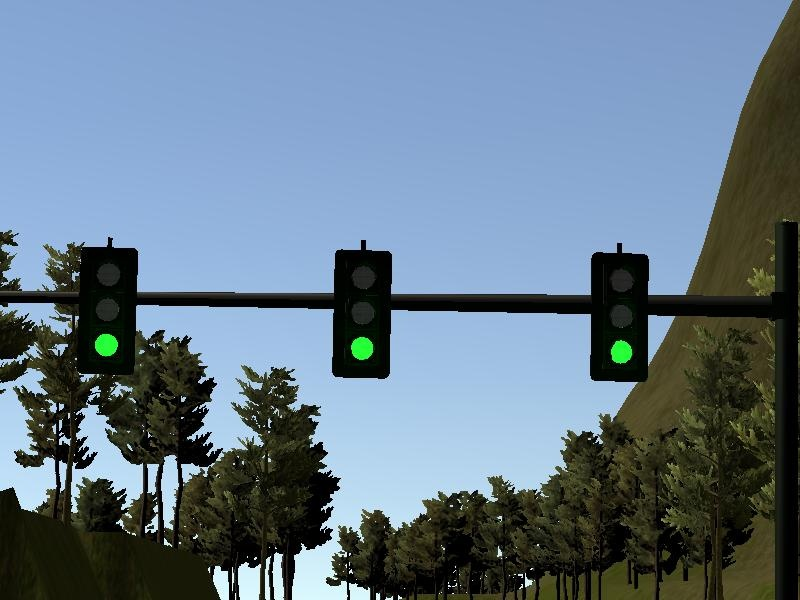traffic_light_green: (49, 237, 769, 383)
